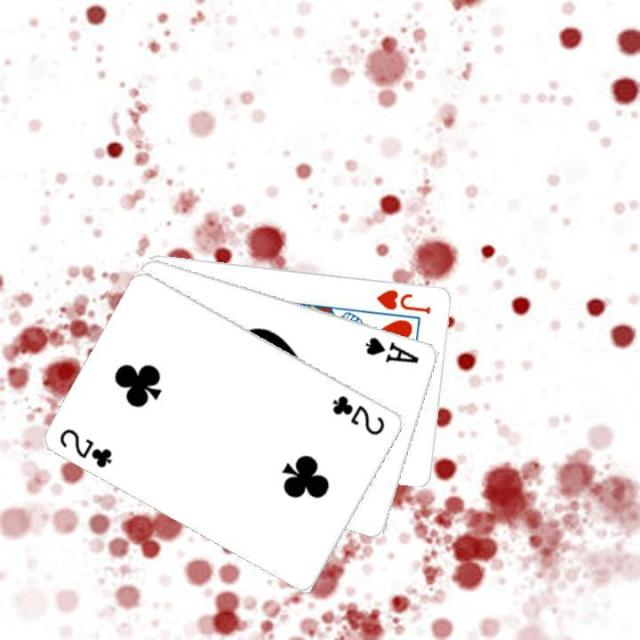2C: (329, 391, 387, 437), (56, 424, 115, 469)
AS: (362, 332, 421, 366)
JH: (372, 284, 433, 316)
